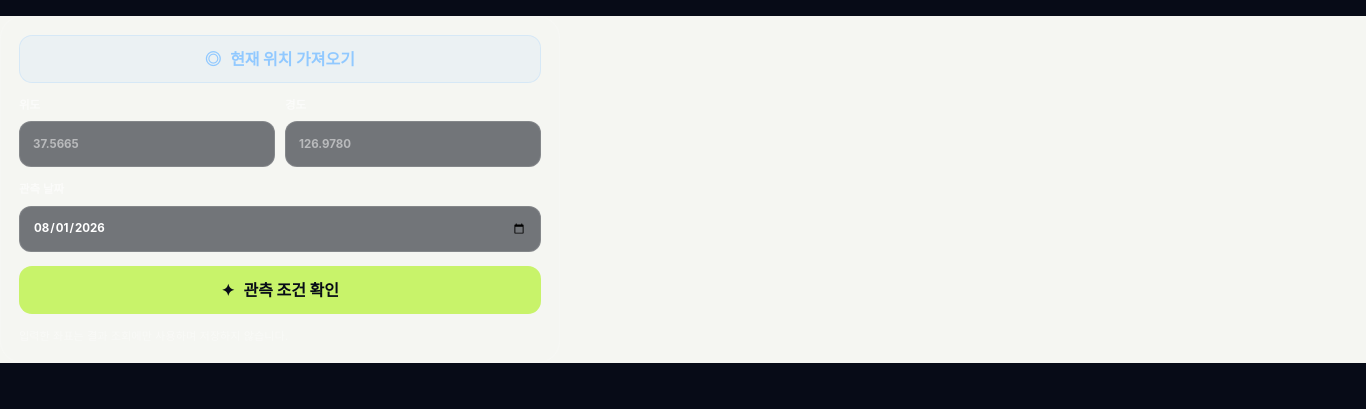
ObservationSearchForm › fills latitude and longitude with the current position
This screenshot has width=1366, height=409.
Click the button "◎ 현재 위치 가져오기" at (280, 59), box [19,35,541,83]
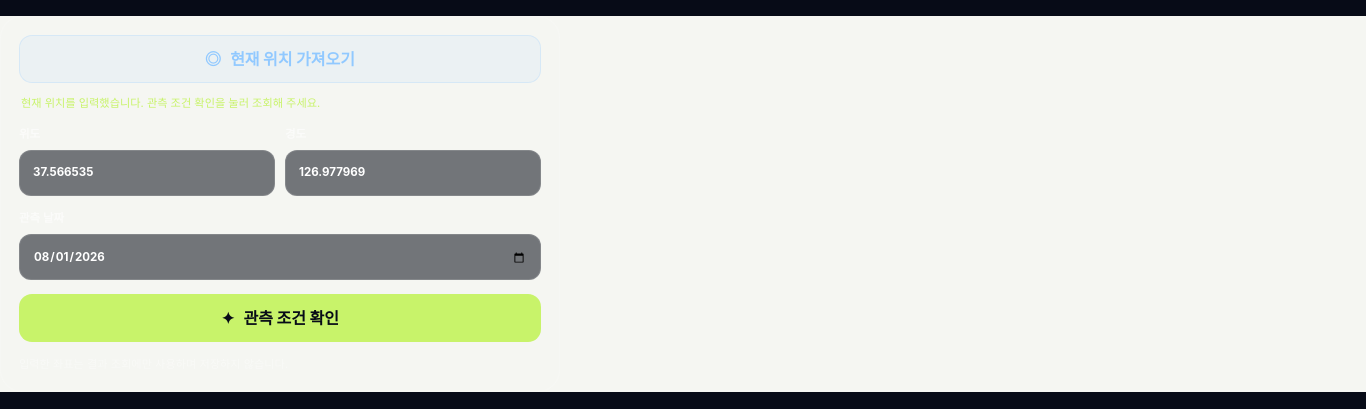
Result: the number field labelled "위도" holds "37.566535" at [19,150,275,196]
Result: the number field labelled "경도" holds "126.977969" at [285,150,541,196]
Result: the text "현재 위치를 입력했습니다. 관측 조건 확인을 눌러 조회해 주세요." is shown at [21,96,320,110]
